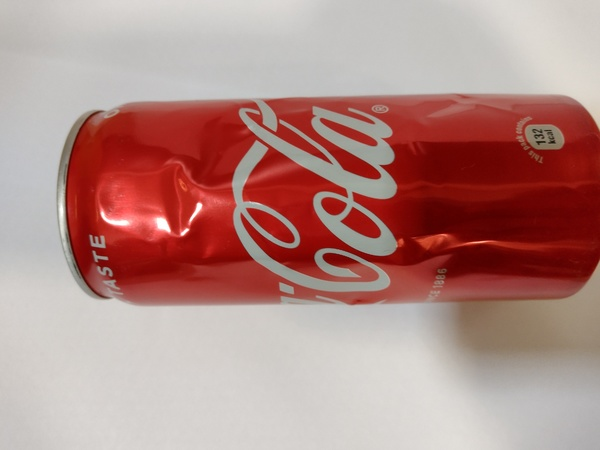can: (51, 90, 600, 313)
